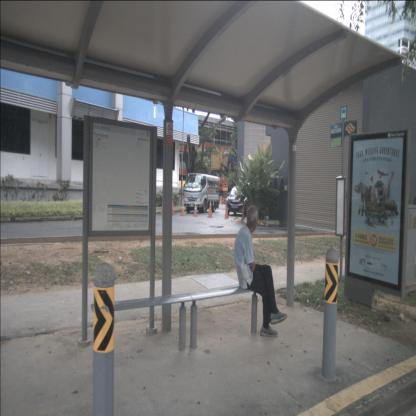human-pedestrian-adult: (234, 205, 288, 338)
movable_object-trafficcone: (191, 199, 200, 217), (206, 199, 214, 219), (223, 200, 230, 221), (179, 198, 187, 216), (170, 198, 176, 218), (159, 198, 166, 215), (240, 204, 246, 223), (219, 195, 222, 205)
vehicle-car: (225, 184, 258, 217)
vehicle-truck: (184, 173, 219, 213)
